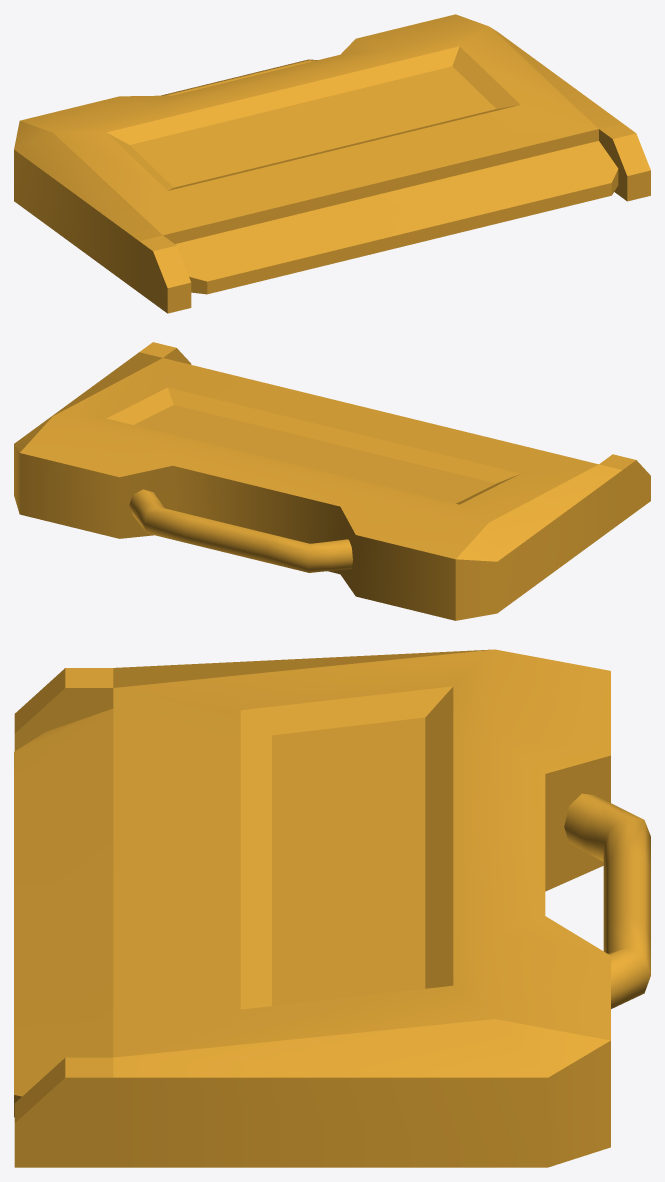
Rendered from SM_CARD_AREA.fbx.
The picture shows the model from 3 angles, top to bottom: view 1: azimuth 30°, elevation 25°; view 2: azimuth 150°, elevation 25°; view 3: azimuth 270°, elevation 25°; orthographic projection. The views are drawn at different scales.
Visible parts, largest first — view 1: SM_CARD_AREA; view 2: SM_CARD_AREA; view 3: SM_CARD_AREA.
Part boxes in pixels (x1,y1,x2,y2): SM_CARD_AREA: [14, 14, 650, 313]; SM_CARD_AREA: [14, 342, 650, 620]; SM_CARD_AREA: [14, 649, 650, 1167].
Bounding box in the file's own units: 0.2823 × 0.0413 × 0.1855.
